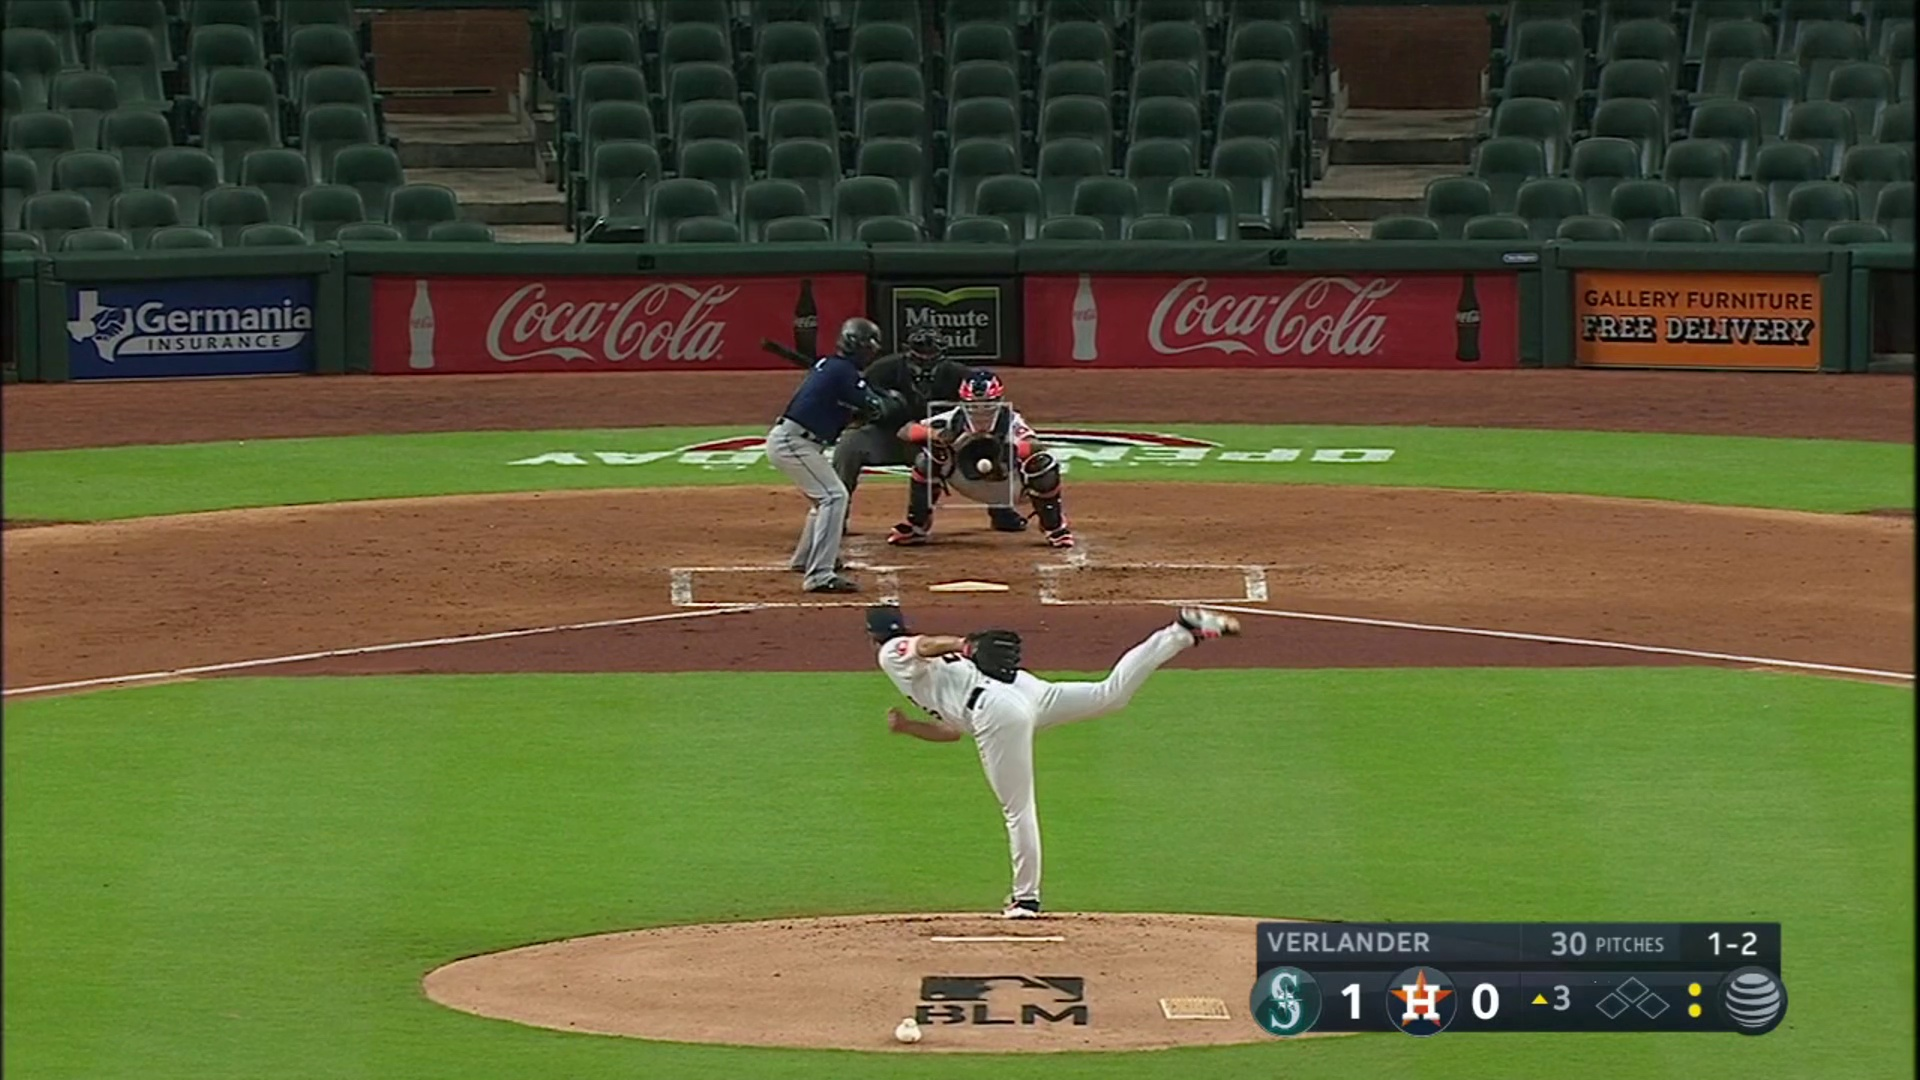baseball: (976, 458, 992, 473)
